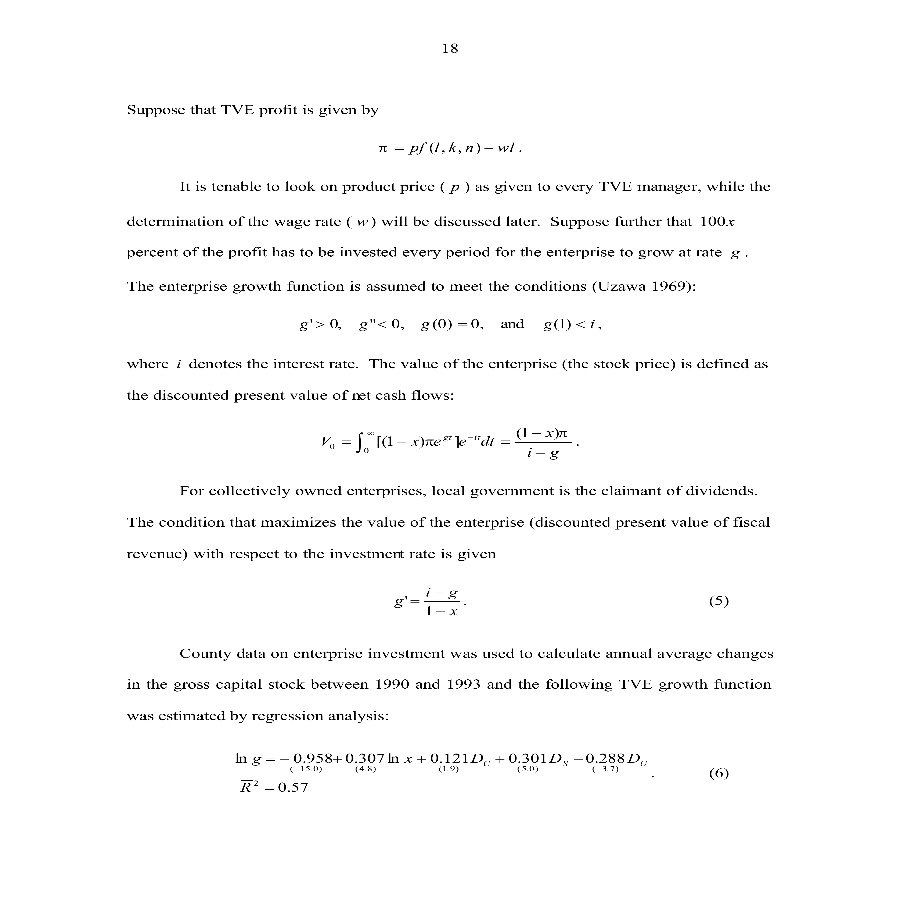eq: (228, 738, 649, 799), (318, 423, 575, 464), (390, 584, 478, 627), (374, 137, 514, 163), (294, 308, 402, 335), (541, 313, 596, 336), (414, 316, 483, 334)
